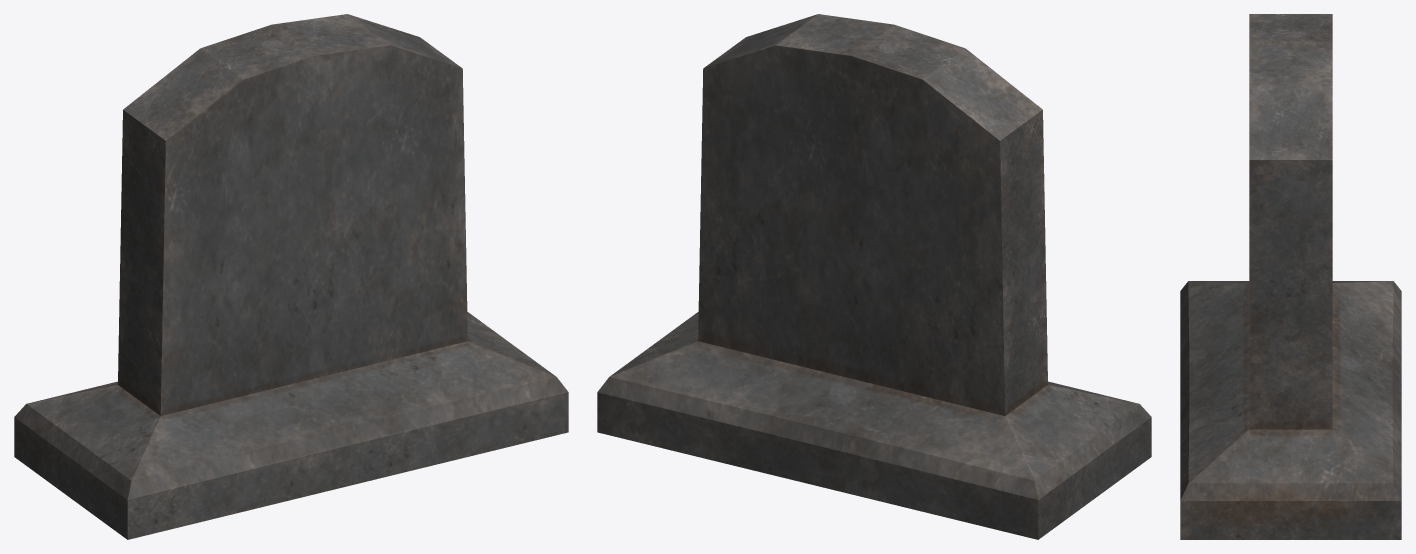
The model's file is tombs_03.fbx.
3 views of the same model, side by side, from view 1: azimuth 30°, elevation 25°; view 2: azimuth 150°, elevation 25°; view 3: azimuth 270°, elevation 25° (orthographic). The views are drawn at different scales.
Parts seen in each view (by area): view 1: tombs_03; view 2: tombs_03; view 3: tombs_03.
Part boxes in pixels (x1,y1,x2,y2): tombs_03: (14, 14, 568, 539); tombs_03: (597, 14, 1151, 539); tombs_03: (1180, 14, 1401, 539).
Bounding box in the file's own units: 0.1591 × 0.1392 × 0.0709.
Materials: 1 (1 with a texture image).
